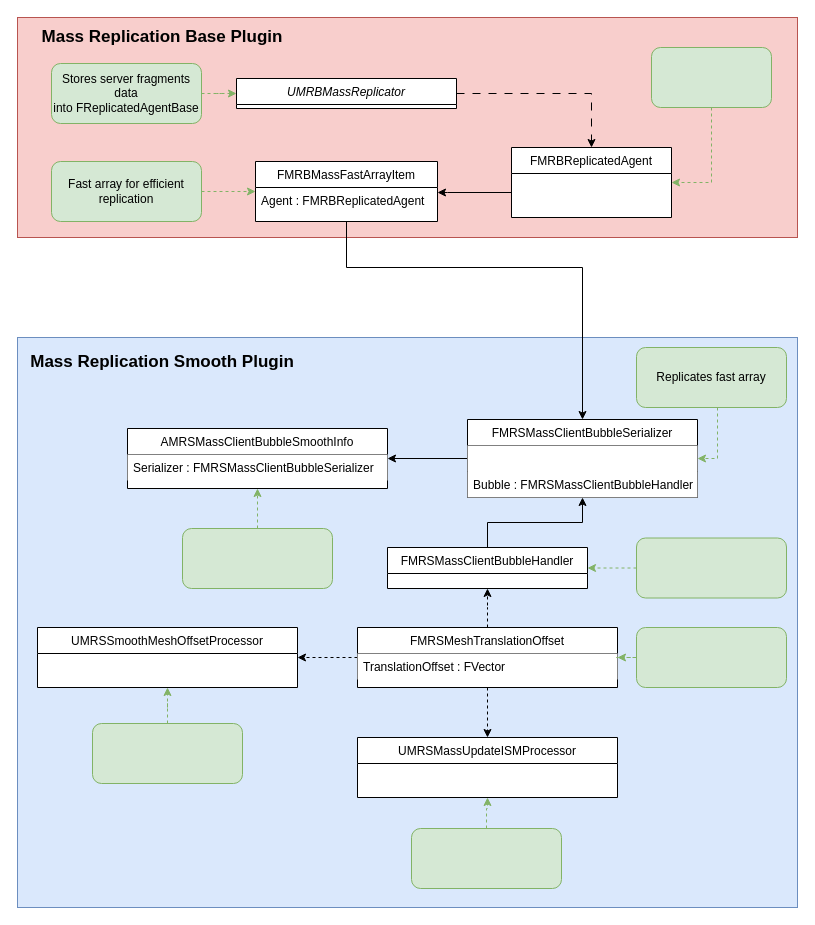
Image size: 815x925. Some labels were removed from this diagram. Here are the shapes that lost their labels. From the top down, the centre of each, then its label:
At (x=711, y=77): "Properties to be replicated".
At (x=582, y=458): "Entities : FMRBMassFastArrayItem[]".
At (x=257, y=558): "Actor for actual replication. One per client".
At (x=711, y=567): "Inserts the server data into the client fragments. Initializes the mesh offset".
At (x=711, y=657): "Contains the mesh offset from the entity position".
At (x=167, y=753): "Gradually reduces the mesh offset".
At (x=486, y=858): "Override the visualization to implement dynamic offset to static meshes".
